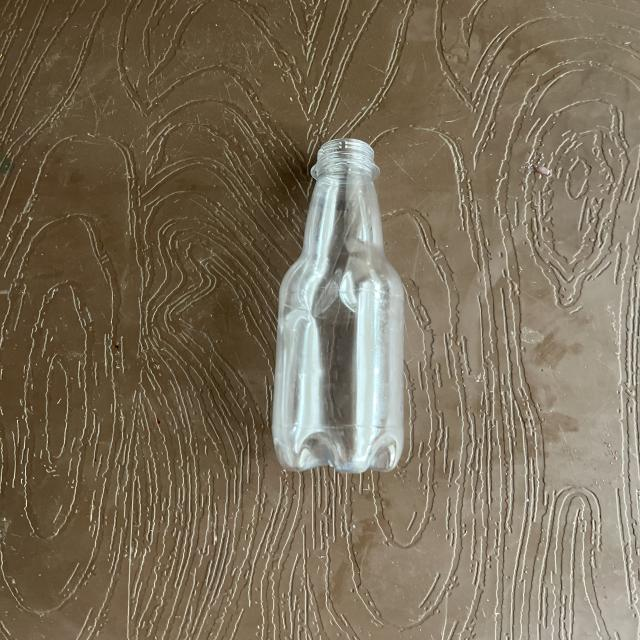PET_ClearBottle: (259, 142, 417, 636)
